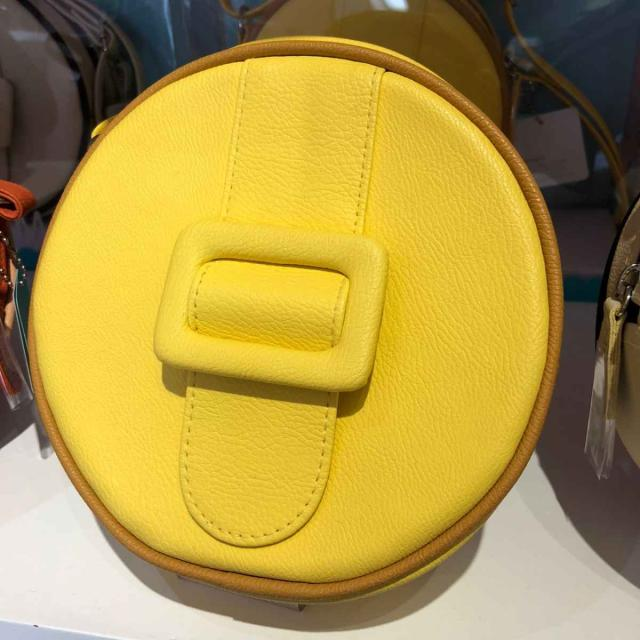Handbag: (26, 42, 564, 608)
